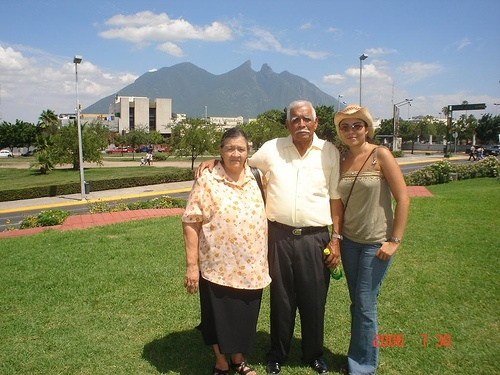head: (283, 98, 320, 146), (334, 104, 371, 148), (219, 128, 252, 174)
person: (251, 100, 339, 375), (179, 122, 271, 375), (331, 103, 409, 375), (467, 145, 476, 160), (145, 151, 152, 164), (139, 154, 145, 165)
